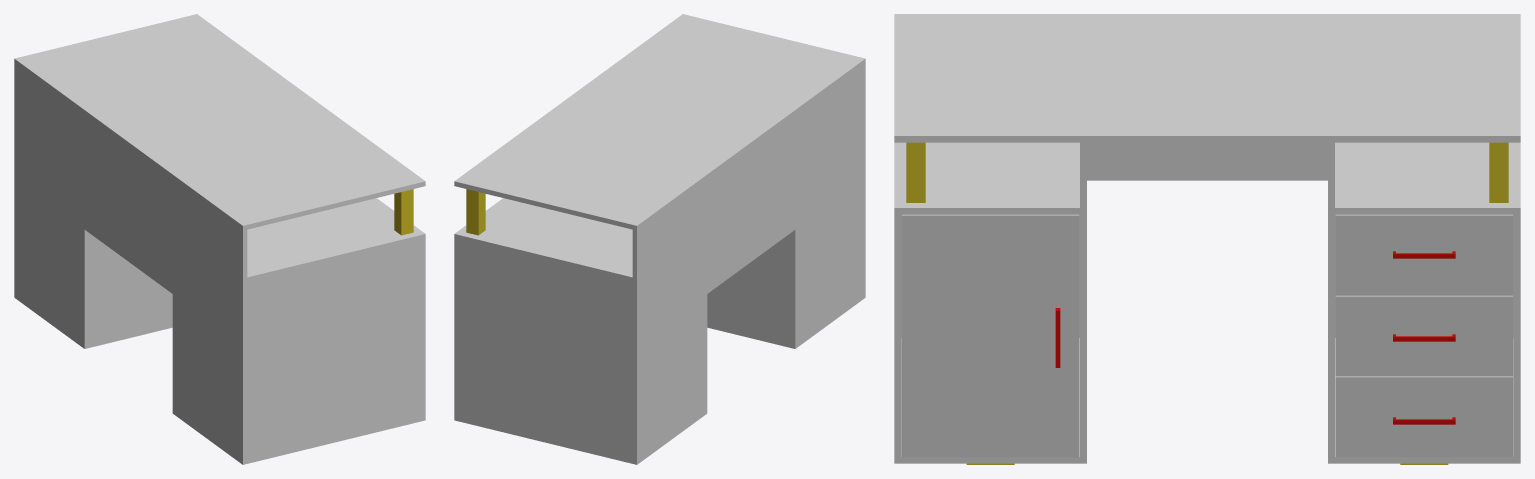
Rendered from Table_3.fbx.
3 renders of one model, left to right at view 1: azimuth 30°, elevation 25°; view 2: azimuth 150°, elevation 25°; view 3: azimuth 270°, elevation 25°, orthographic. The views are drawn at different scales.
Visible parts, largest first — view 1: Cube.152, Cube.158, Cube.159, Cube.165, Cube.169, Cube.157, Cube.163, Cube.154, Cube.155, Cube.162; view 2: Cube.152, Cube.164, Cube.165, Cube.159, Cube.169, Cube.156, Cube.150, Cube.155, Cube.154, Cube.162; view 3: Cube.152, Cube.167, Cube.160, Cube.157, Cube.156, Cube.169, Cube.162, Cube.163, Cube.150, Cube.164, Cube.158, Cube.155 (+1 smaller).
Boxes of the visible parts, x1,y1,x2,y2 form: Cube.152: [14, 14, 425, 230]; Cube.158: [247, 239, 425, 458]; Cube.159: [172, 179, 247, 459]; Cube.165: [14, 63, 84, 343]; Cube.169: [84, 115, 172, 293]; Cube.157: [247, 198, 425, 281]; Cube.163: [84, 230, 172, 343]; Cube.154: [172, 409, 425, 464]; Cube.155: [14, 293, 172, 348]; Cube.162: [394, 189, 413, 235]; Cube.152: [454, 14, 865, 230]; Cube.164: [454, 239, 632, 458]; Cube.165: [632, 179, 707, 459]; Cube.159: [790, 63, 865, 344]; Cube.169: [707, 115, 795, 293]; Cube.156: [454, 198, 632, 281]; Cube.150: [707, 233, 790, 342]; Cube.155: [454, 409, 707, 464]; Cube.154: [707, 293, 865, 348]; Cube.162: [466, 189, 485, 235]; Cube.152: [894, 14, 1520, 142]; Cube.167: [1335, 214, 1512, 457]; Cube.160: [902, 214, 1079, 457]; Cube.157: [894, 142, 1086, 214]; Cube.156: [1328, 142, 1520, 214]; Cube.169: [1087, 142, 1327, 180]; Cube.162: [906, 142, 1508, 202]; Cube.163: [1328, 142, 1334, 456]; Cube.150: [1080, 142, 1086, 456]; Cube.164: [1513, 214, 1520, 456]; Cube.158: [894, 214, 901, 456]; Cube.155: [1328, 338, 1520, 463].
Bounding box in the file's own units: 61.8 × 76.5 × 130.
